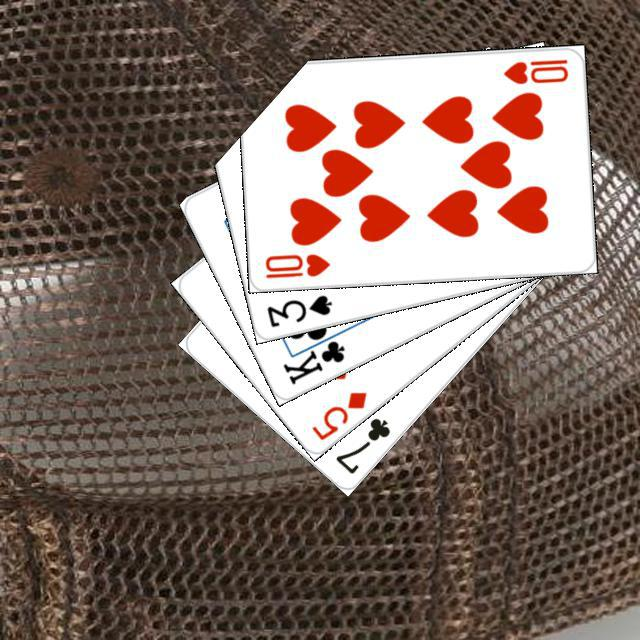10h: (260, 248, 332, 280), (498, 54, 570, 86)
3s: (262, 289, 334, 329)
5d: (306, 386, 369, 442)
7c: (330, 412, 392, 476)
Kc: (277, 325, 347, 387)
